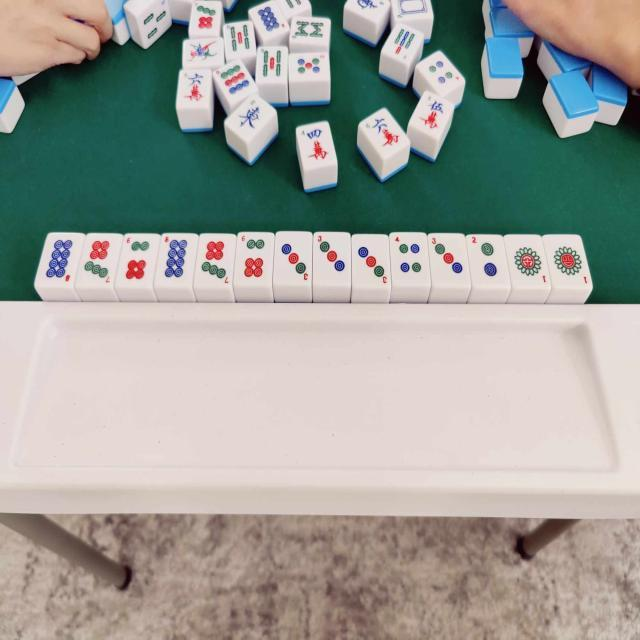sd1: (508, 238, 548, 288), (552, 238, 590, 286)
sd2: (471, 235, 504, 284)
sd3: (431, 233, 466, 284), (276, 235, 310, 282), (355, 238, 388, 286), (316, 232, 346, 281)
sd4: (394, 235, 426, 282)
sd6: (238, 232, 270, 284), (123, 236, 152, 286)
sd7: (199, 234, 232, 285), (83, 236, 114, 286)
sd8: (46, 237, 74, 284), (162, 234, 186, 282)
